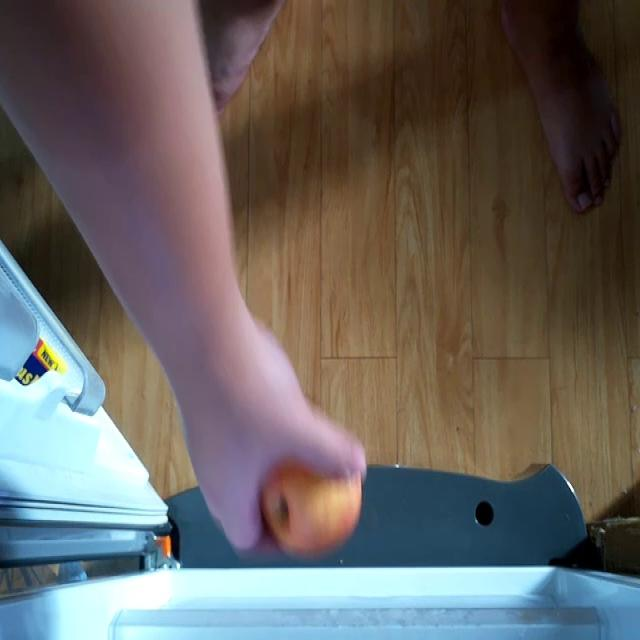apple: (262, 461, 362, 553)
